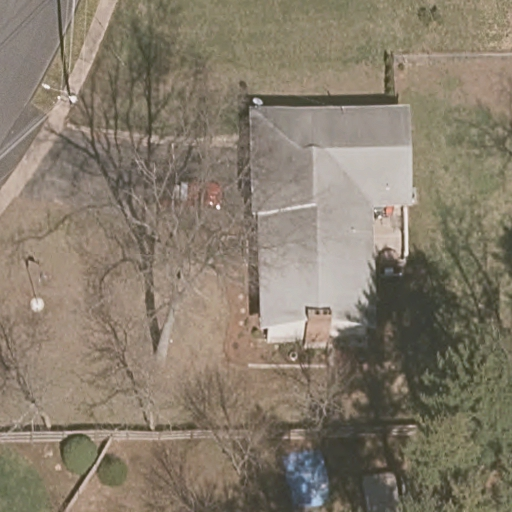DT: (39, 60, 80, 103)
